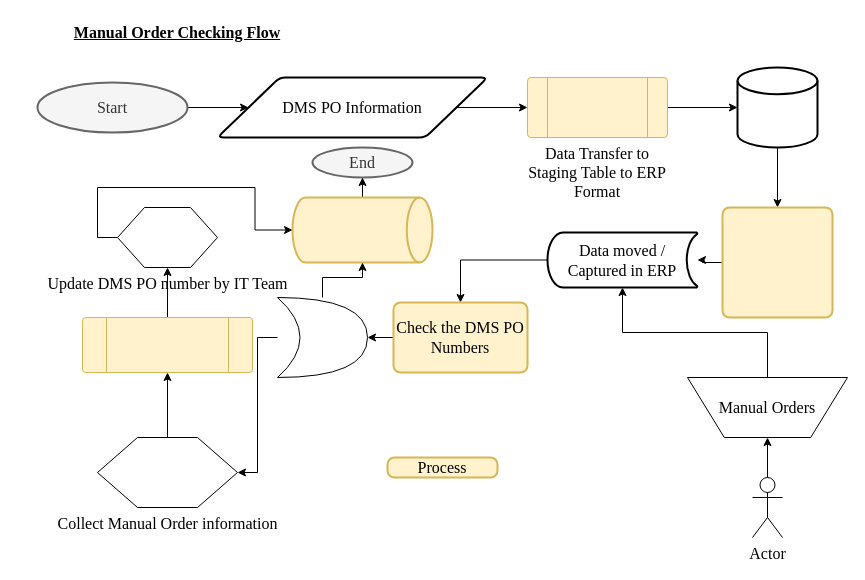
This 865x580 diagram has some shape labels left out. The shapes that lost their labels are listed below. From the top down, each one's centre as x and y in pixels, then its label:
At (x=777, y=107): "Staging DB".
At (x=362, y=229): "Data update to DMS".
At (x=777, y=262): "Data process to ERP System".
At (x=167, y=344): "Update Manual Order to Respective person mail ID".
At (x=322, y=337): "Manual / Auto".
